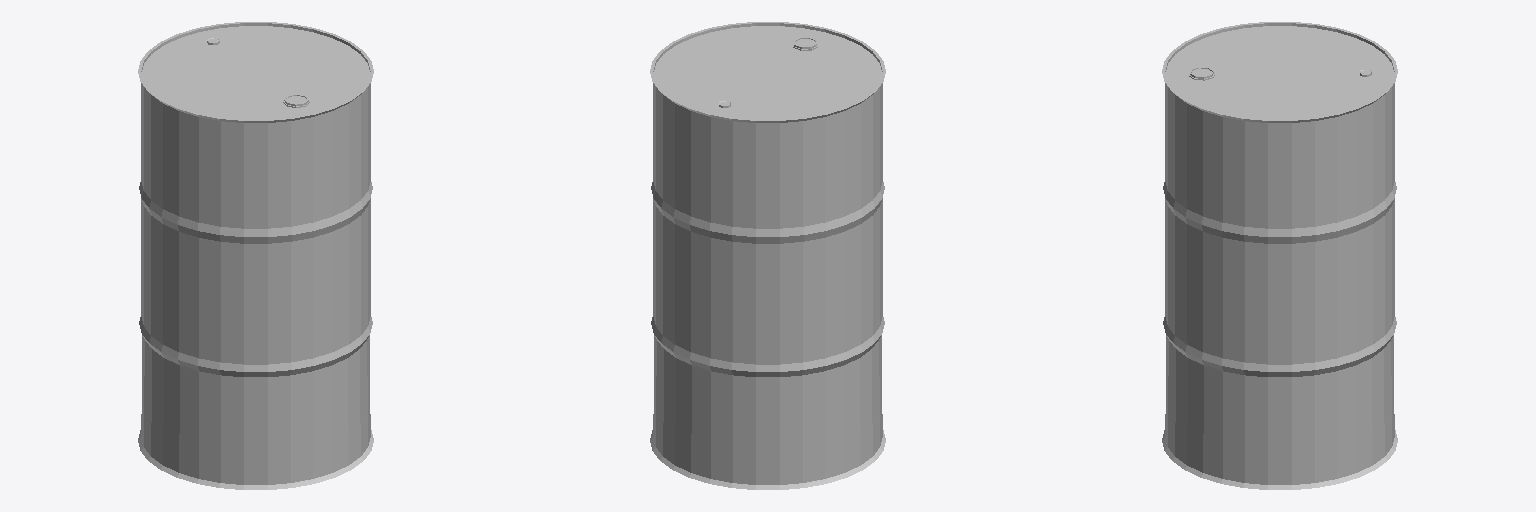
Rendered from Gasoline_barrel.obj.
3 renders of one model, left to right at view 1: azimuth 30°, elevation 25°; view 2: azimuth 150°, elevation 25°; view 3: azimuth 270°, elevation 25°, orthographic.
Visible parts, largest first — view 1: Barrel_Cylinder.001; view 2: Barrel_Cylinder.001; view 3: Barrel_Cylinder.001.
Boxes of the visible parts, x1=… form: Barrel_Cylinder.001: x1=138, y1=22, x2=373, y2=489; Barrel_Cylinder.001: x1=650, y1=22, x2=885, y2=489; Barrel_Cylinder.001: x1=1162, y1=22, x2=1397, y2=489.
Bounding box in the file's own units: 5.9 × 10.22 × 5.93.